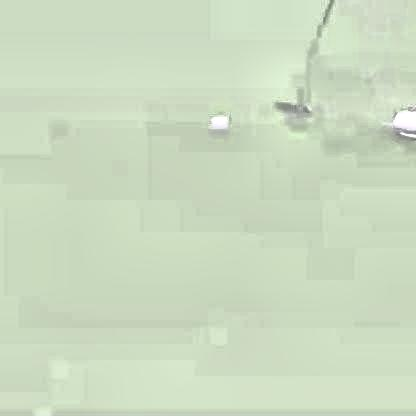golfball: (206, 113, 226, 131)
